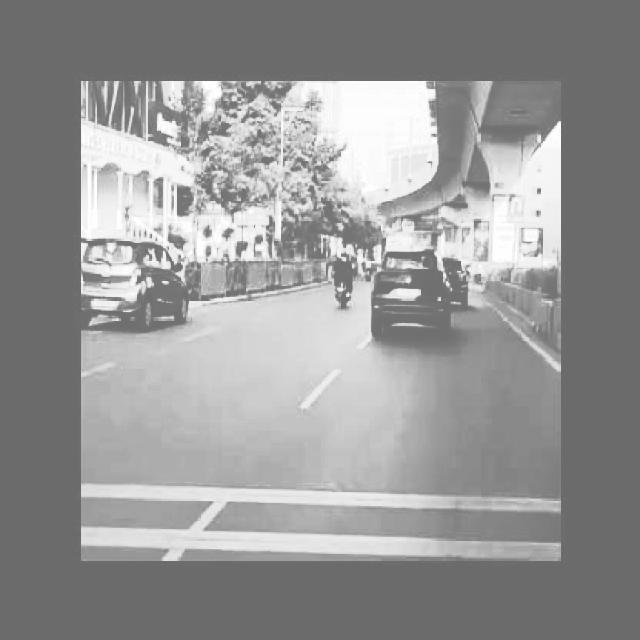Car: (77, 230, 201, 338), (361, 238, 464, 337)
